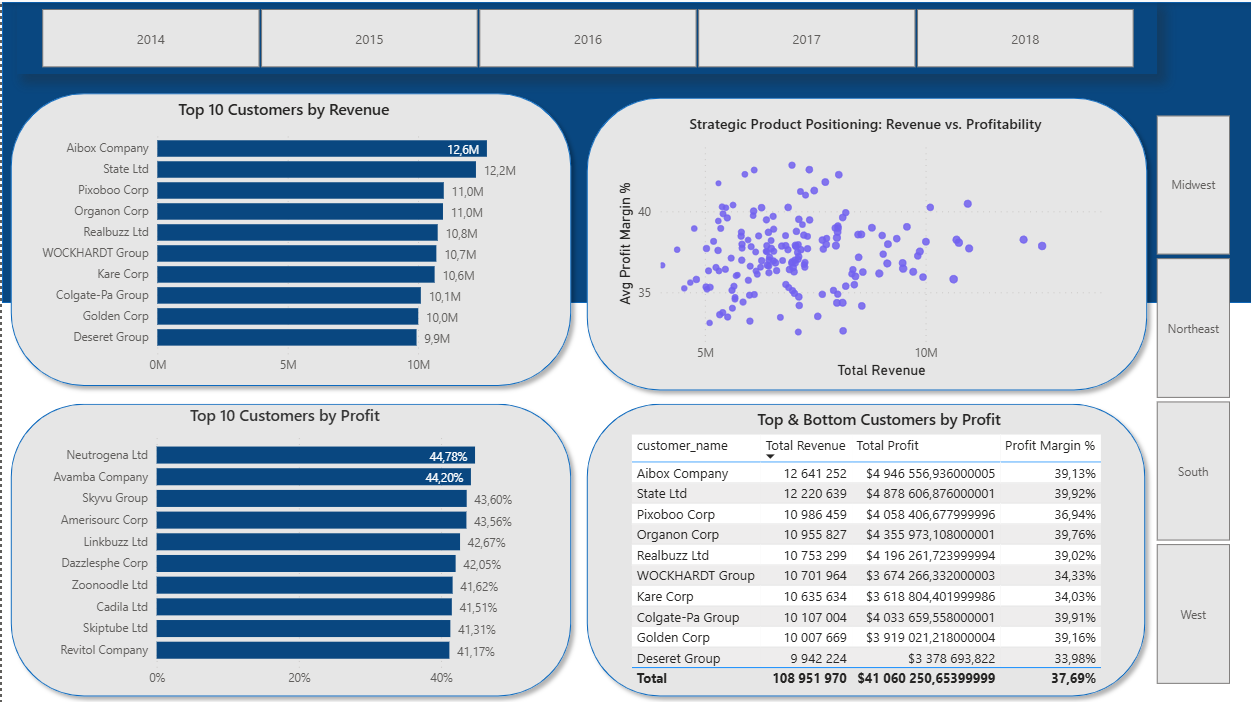

This screenshot's page, from the dashboard's own definition file:
{"tool":"powerbi","page":{"name":"Customer & Risk Analysis","canvas":[1280,720],"ordinal":2},"visuals":[{"type":"shape","box":[0,0,1279.5,308.1],"z":0},{"type":"shape","box":[589.6,402.5,589.6,317.5],"z":1000},{"type":"shape","box":[0,85,591.5,317.5],"z":2000},{"type":"shape","box":[0,402.5,591.5,317.5],"z":3000},{"type":"shape","box":[589.6,88.8,591.5,317.5],"z":4000},{"type":"slicer","fields":{"Values":["Sales_data.year"]},"box":[15.4,0,1166.7,73.7],"z":5000},{"type":"barChart","title":"Top 10 Customers by Profit","fields":{"Category":["Sales_data.customer_name"],"Y":["Measures_.Profit Margin %"]},"box":[39.7,412,498.9,298.6],"z":6000},{"type":"barChart","title":"Top 10 Customers by Revenue","fields":{"Category":["Sales_data.customer_name"],"Y":["Measures_.Total Revenue"]},"box":[28.3,98.3,521.6,291],"z":7000},{"type":"scatterChart","title":"Strategic Product Positioning: Revenue vs. Profitability","fields":{"X":["Customer Summary.Total Revenue"],"Y":["Customer Summary.Avg Profit Margin %"],"Size":["Sum(Customer Summary.Order Count)"]},"box":[625.5,113.4,517.8,275.9],"z":8000},{"type":"slicer","fields":{"Values":["Sales_data.us_region"]},"box":[1155.7,109,124.3,595.7],"z":9000},{"type":"tableEx","title":"Top & Bottom Customers by Profit","fields":{"Values":["Sales_data.customer_name","Measures_.Total Revenue","Measures_.Total Profit","Measures_.Profit Margin %"]},"box":[638.7,415.8,517.8,291],"z":10000}]}

Visuals, with their boxes in screenshot pixels (x1, y1, x2, y2), scaled from the page's 1280x720 canvas onto the 1251x702 screenshot:
shape: [x1=0, y1=0, x2=1250, y2=300]
shape: [x1=576, y1=392, x2=1152, y2=701]
shape: [x1=0, y1=83, x2=578, y2=392]
shape: [x1=0, y1=392, x2=578, y2=701]
shape: [x1=576, y1=87, x2=1154, y2=396]
slicer - Sales_data.year: [x1=15, y1=0, x2=1155, y2=72]
"Top 10 Customers by Profit" barChart: [x1=39, y1=402, x2=526, y2=693]
"Top 10 Customers by Revenue" barChart: [x1=28, y1=96, x2=537, y2=380]
"Strategic Product Positioning: Revenue vs. Profitability" scatterChart: [x1=611, y1=111, x2=1117, y2=380]
slicer - Sales_data.us_region: [x1=1130, y1=106, x2=1250, y2=687]
"Top & Bottom Customers by Profit" tableEx: [x1=624, y1=405, x2=1130, y2=689]
